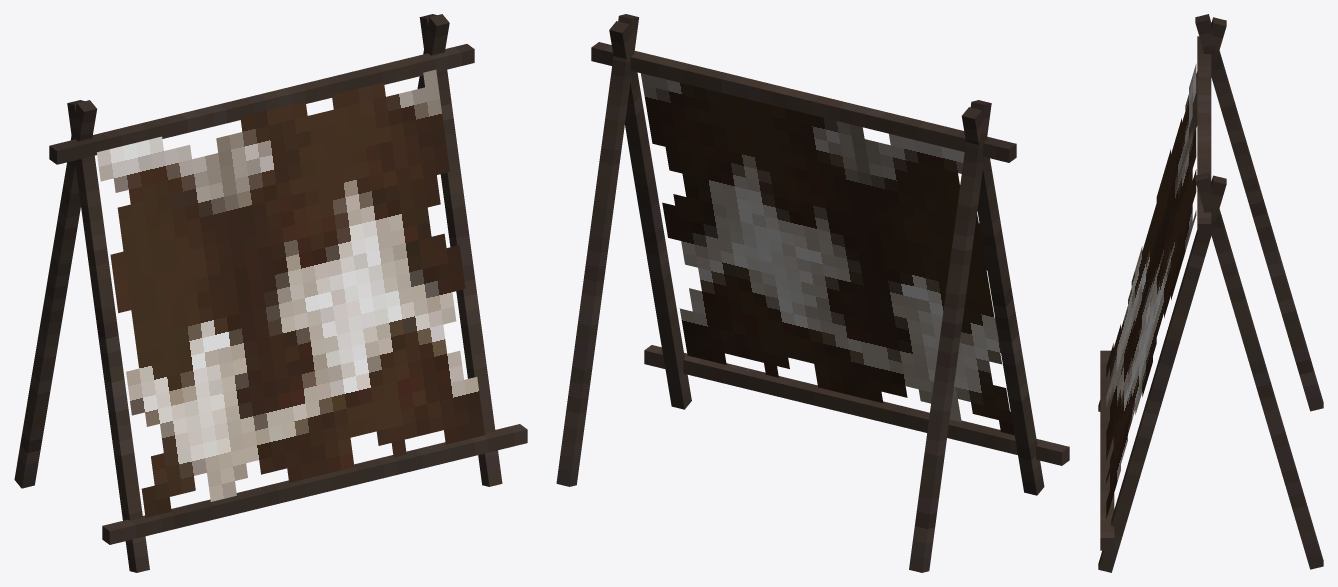
File: cowhide.obj
3 renders of one model, left to right at view 1: azimuth 30°, elevation 25°; view 2: azimuth 150°, elevation 25°; view 3: azimuth 270°, elevation 25°, orthographic. The views are drawn at different scales.
Visible parts, largest first — view 1: Shape4, Shape7, Shape3, Shape1, Shape2, Shape5, Shape6; view 2: Shape4, Shape2, Shape6, Shape1, Shape7, Shape5, Shape3; view 3: Shape4, Shape2, Shape6, Shape5, Shape1, Shape7, Shape3.
Boxes of the visible parts, x1,y1,x2,y2 form: Shape4: (97, 69, 484, 517); Shape7: (102, 424, 527, 544); Shape3: (67, 100, 149, 572); Shape1: (49, 44, 474, 164); Shape2: (14, 100, 96, 488); Shape5: (419, 14, 502, 486); Shape6: (417, 14, 449, 88); Shape4: (641, 73, 1014, 435); Shape2: (909, 100, 991, 572); Shape6: (556, 14, 638, 486); Shape1: (591, 42, 1016, 162); Shape7: (644, 345, 1069, 465); Shape5: (609, 21, 691, 409); Shape3: (961, 107, 1044, 495); Shape4: (1106, 64, 1196, 518); Shape2: (1195, 14, 1323, 411); Shape6: (1195, 172, 1323, 569); Shape5: (1098, 175, 1226, 572); Shape1: (1197, 36, 1211, 236); Shape7: (1100, 350, 1114, 550); Shape3: (1098, 17, 1226, 411).
Bounding box in the file's own units: 2 × 1.98 × 1.02.
